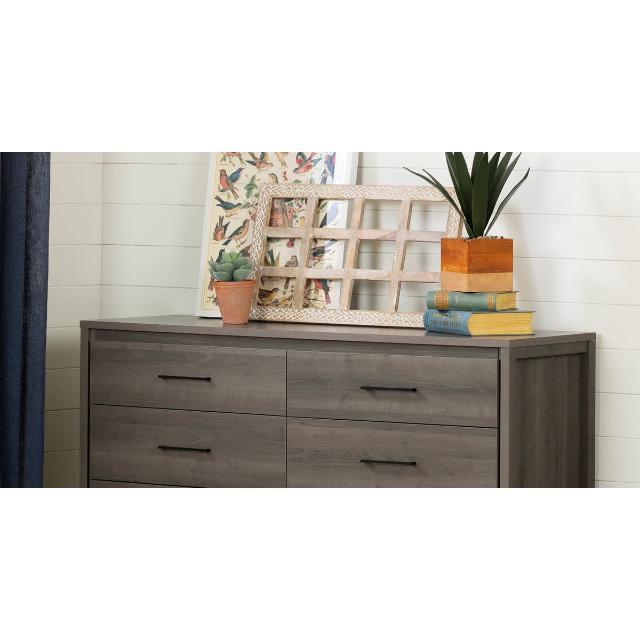dresser: (72, 307, 604, 483)
